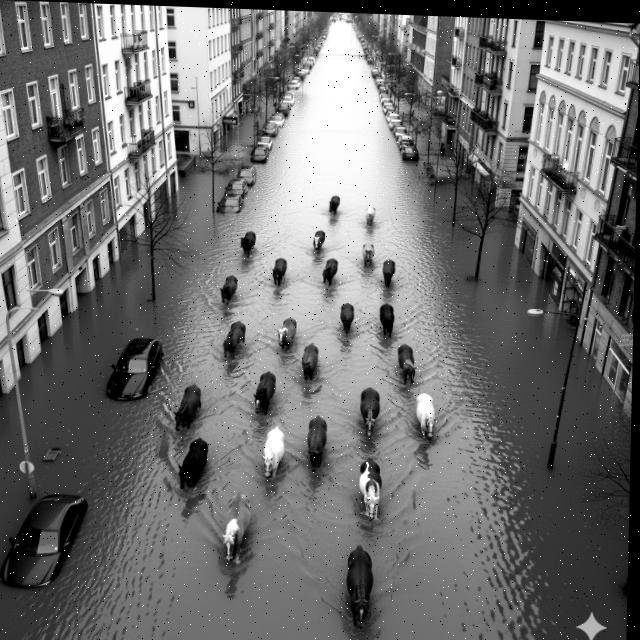horse: (340, 539, 388, 640), (217, 485, 257, 572), (355, 457, 386, 524), (176, 436, 209, 493), (304, 413, 332, 476), (172, 382, 203, 434), (251, 367, 279, 421), (413, 390, 440, 445), (357, 384, 383, 440), (261, 425, 286, 483), (221, 318, 248, 363), (394, 343, 419, 387), (276, 315, 300, 355), (299, 342, 320, 383), (219, 273, 242, 309), (237, 230, 259, 262), (377, 303, 397, 338), (271, 257, 291, 290), (320, 257, 341, 287), (340, 302, 357, 336), (380, 258, 397, 289), (311, 228, 329, 254), (360, 241, 376, 269), (328, 194, 342, 217), (363, 206, 378, 226)
